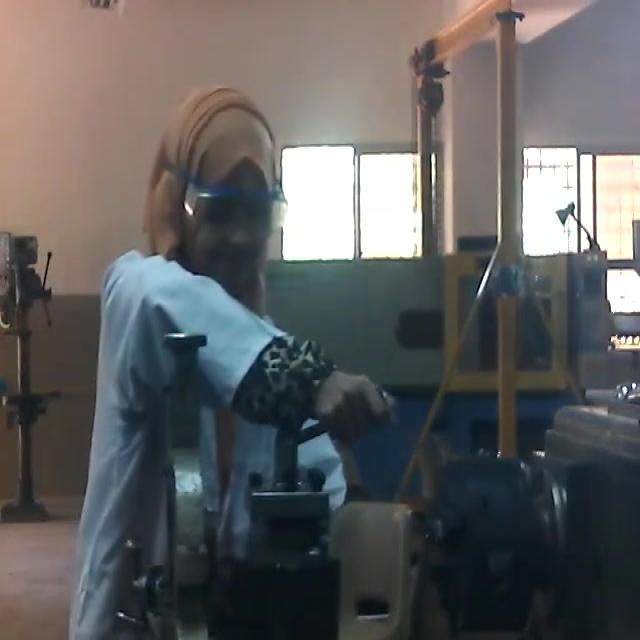googles: (178, 170, 292, 242)
labcoat: (80, 248, 348, 640)
